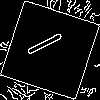I: (25, 25, 72, 58)
